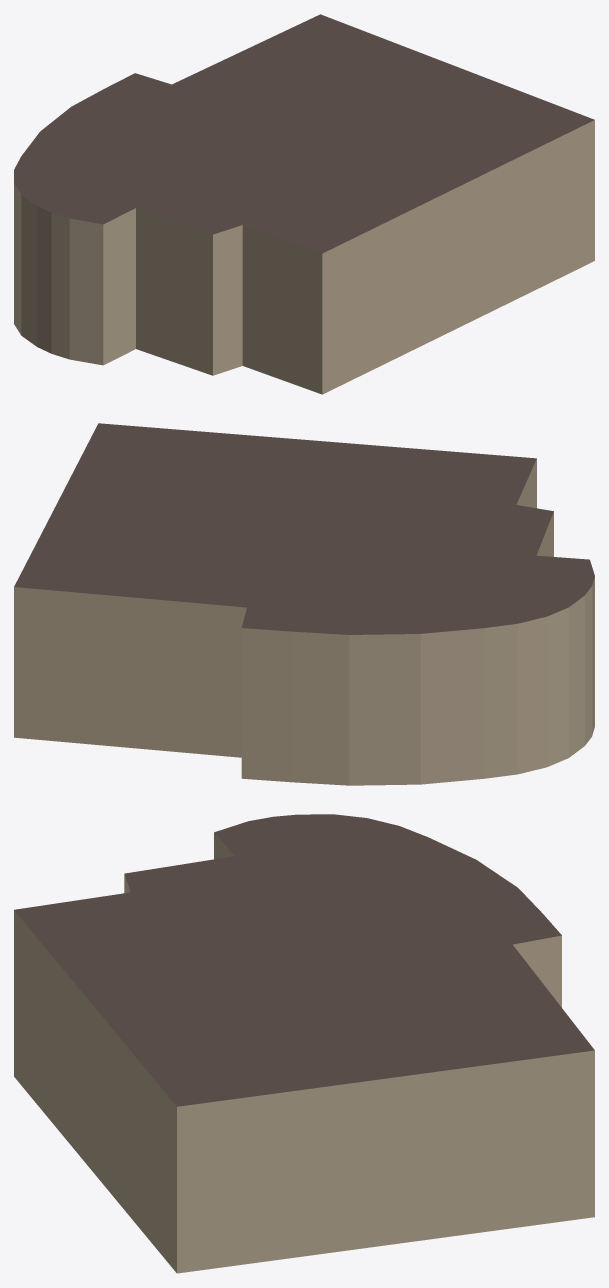
3 views of the same model, one above another, from view 1: azimuth 30°, elevation 25°; view 2: azimuth 150°, elevation 25°; view 3: azimuth 270°, elevation 25° (orthographic). The views are drawn at different scales.
Visible parts, largest first — view 1: HP-w435452351; view 2: HP-w435452351; view 3: HP-w435452351.
Part boxes in pixels (box(x1,y1,x2,y2)): HP-w435452351: box(14, 14, 594, 394); HP-w435452351: box(14, 423, 594, 785); HP-w435452351: box(14, 814, 594, 1273).
Bounding box in the file's own units: 33.85 × 9 × 28.42.
